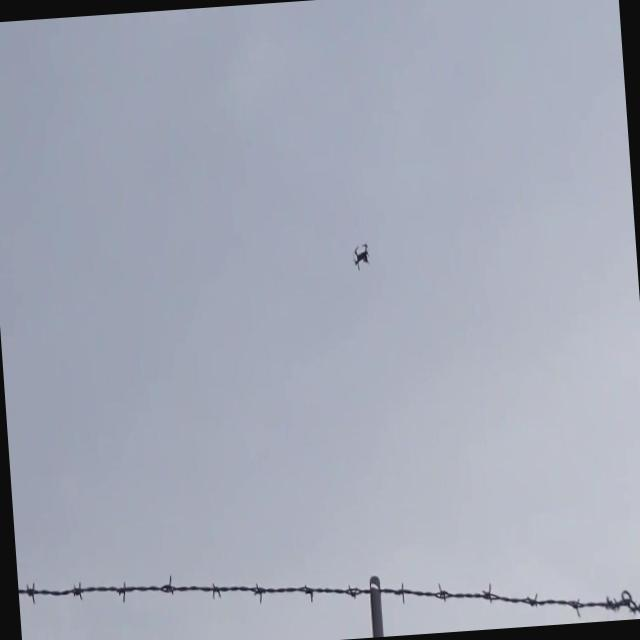drone: (350, 239, 370, 271)
